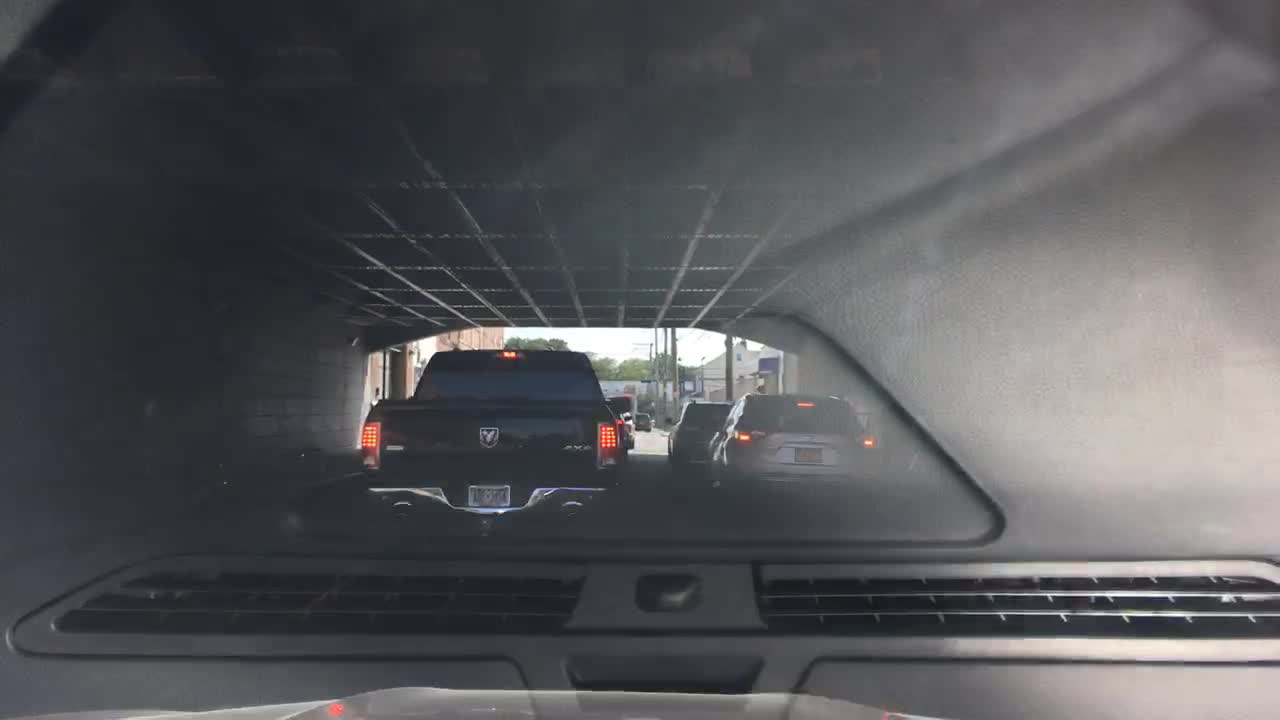car: (702, 393, 880, 519), (665, 402, 738, 471), (615, 410, 639, 448), (605, 394, 633, 425), (635, 412, 656, 428)
truck: (348, 346, 626, 565)
